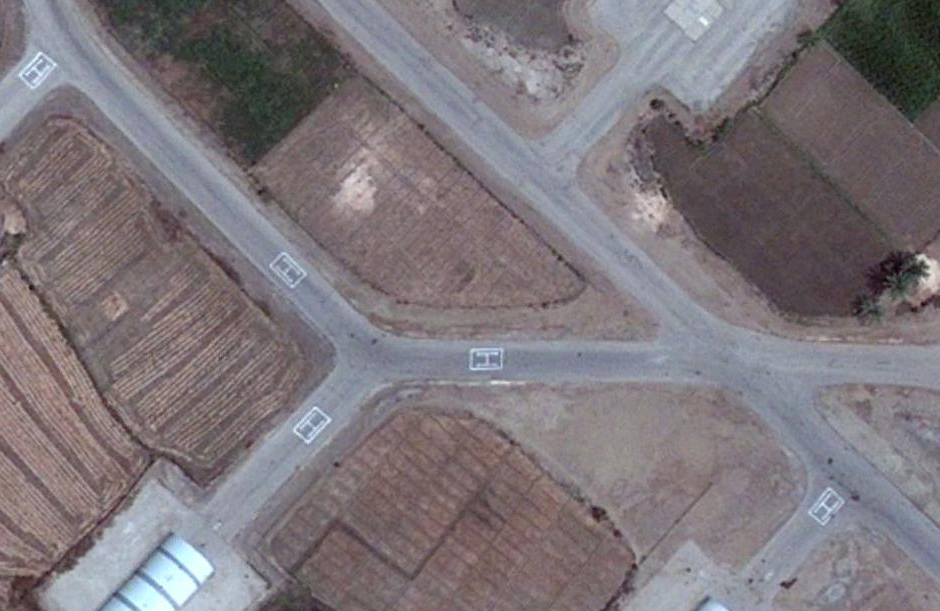heliport: (288, 407, 330, 443), (809, 486, 841, 522), (16, 53, 50, 84), (271, 254, 303, 285), (474, 350, 499, 368)
